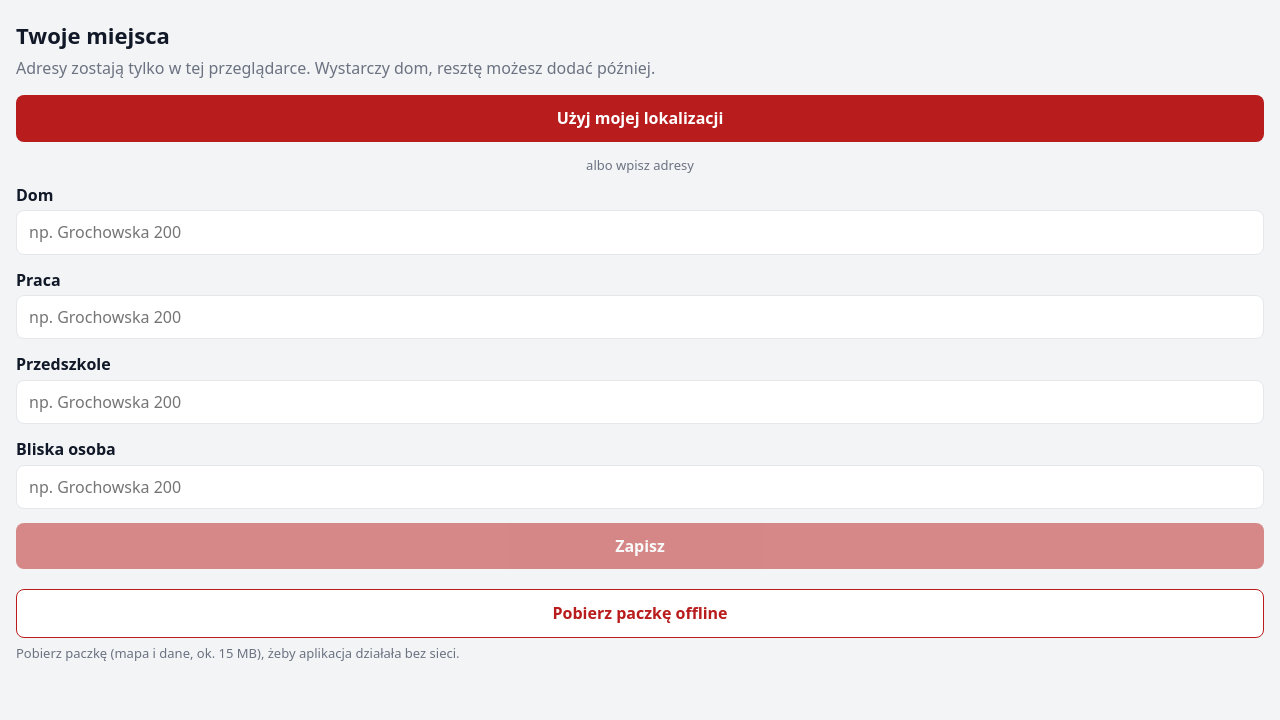
Test: onboarding › poza Warszawą pokazuje komunikat, nic nie zapisuje i nie zamyka formularza
This screenshot has width=1280, height=720.
Click the button "Użyj mojej lokalizacji".
click(640, 118)  # box [16,95,1264,142]
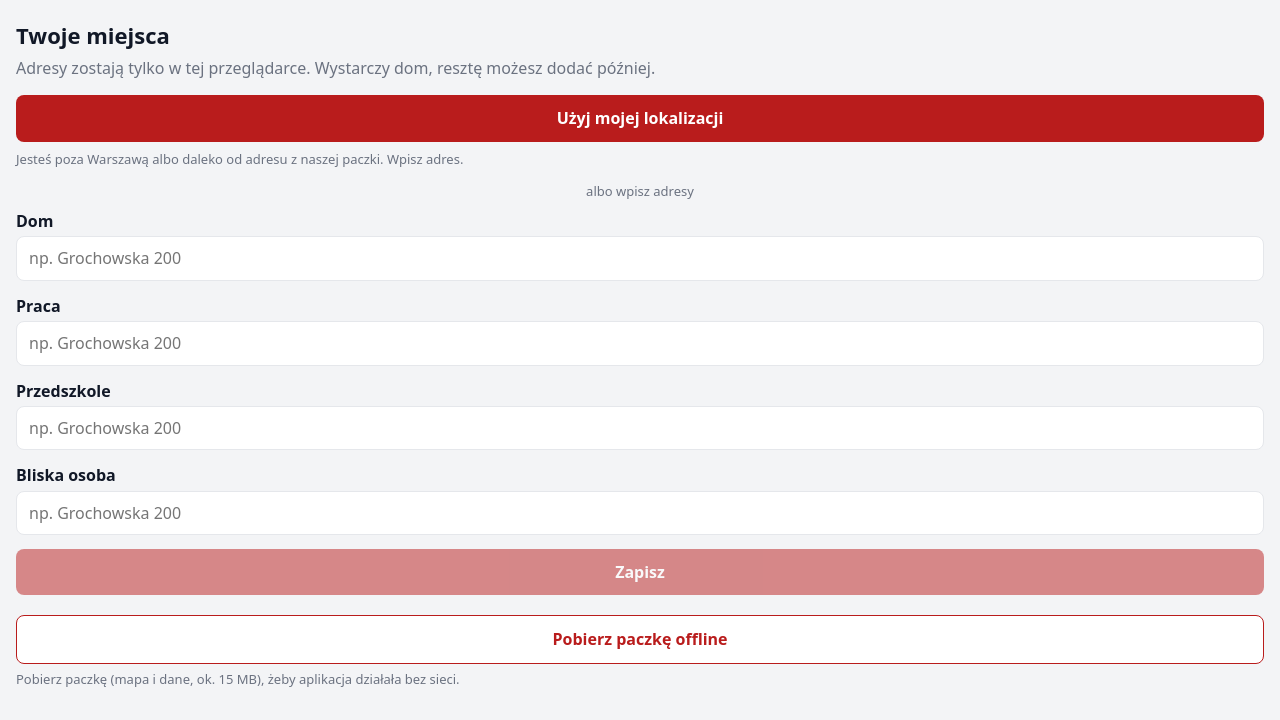
Expected: the text "Jesteś poza Warszawą albo daleko od adresu z naszej paczki. Wpisz adres." is shown, [16,150,463,168]
